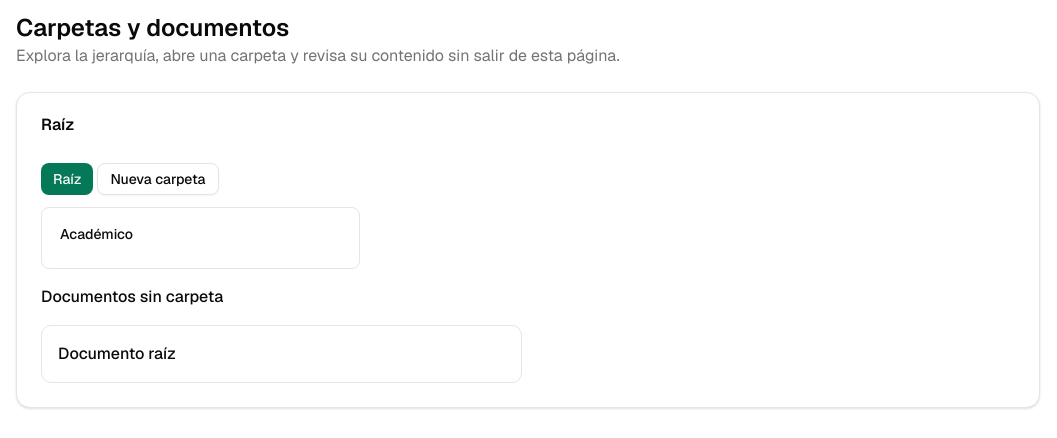
Scenario: directories pages › opens a root folder in place and lists its documents without leaving the page
Expected: the text "Documento raíz" is shown, [58, 342, 176, 366]
What coordinates should you click on to do the following:
click the button "Académico"
I would click on:
 (97, 234)
Its box is [54, 220, 347, 248].
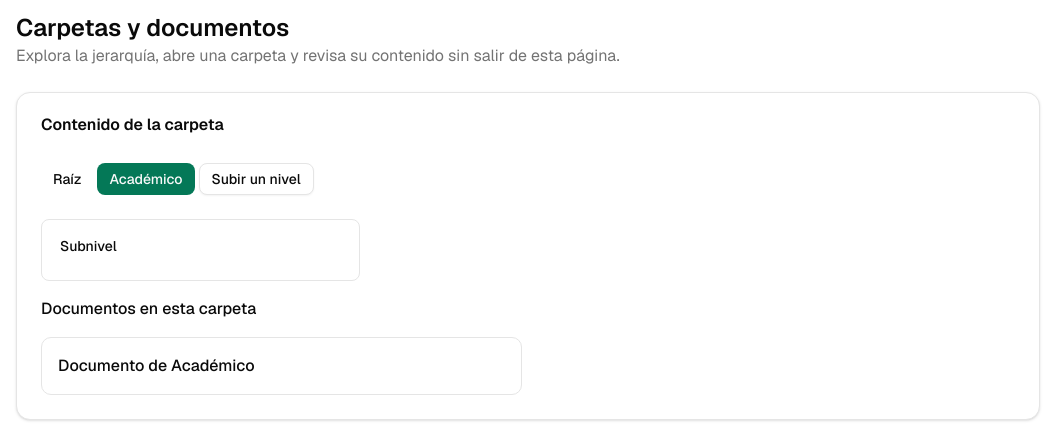
Expected: the text "Documento de Académico" is shown, [58, 354, 255, 378]
Expected: the link "Documento raíz" is gone
Expected: the button "Subnivel" is shown, [54, 232, 347, 260]
